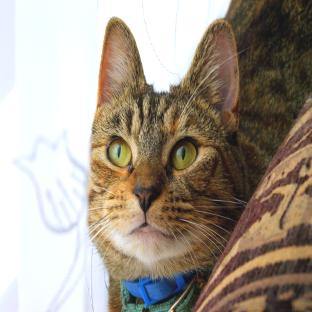Animal: (89, 0, 312, 312)
